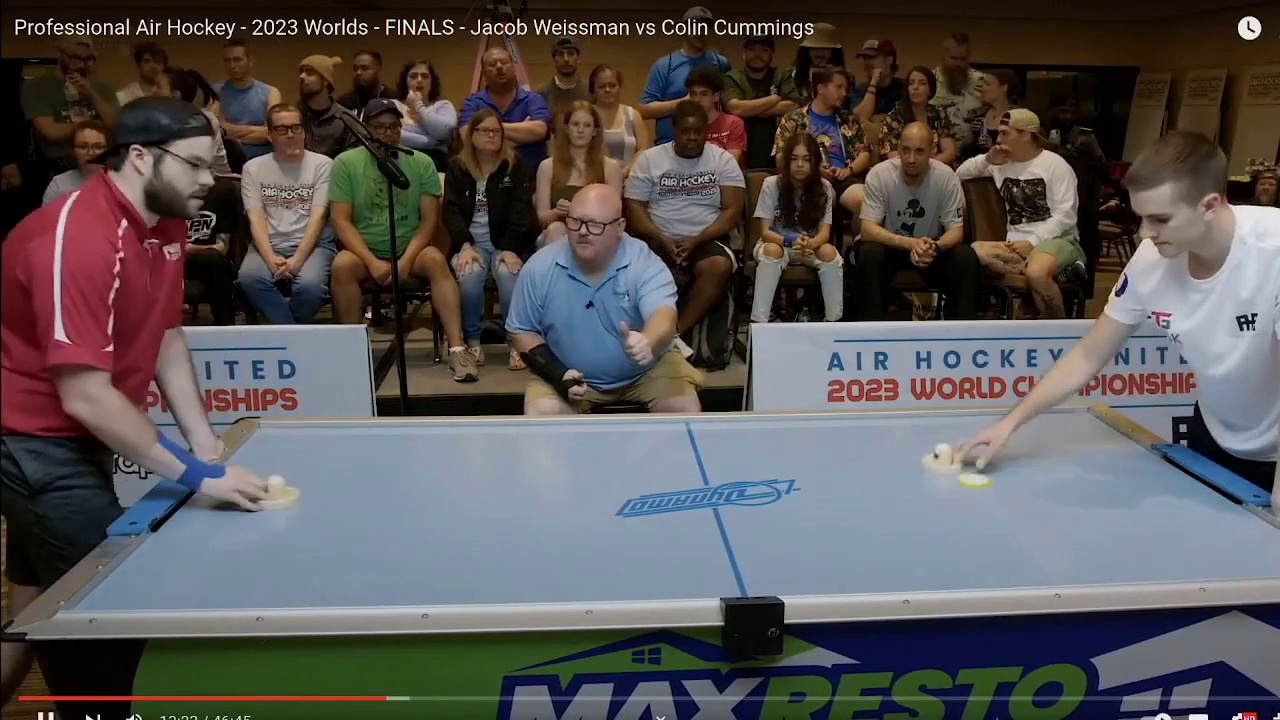player: (250, 469, 299, 508), (916, 440, 964, 473)
puck: (959, 472, 993, 492)
table: (36, 413, 1280, 593)
